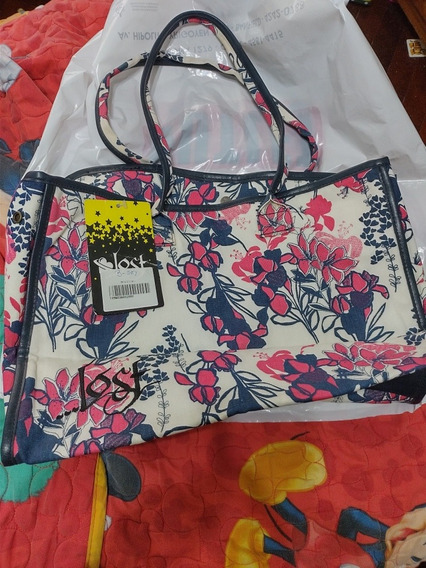cartera: (4, 9, 426, 474)
